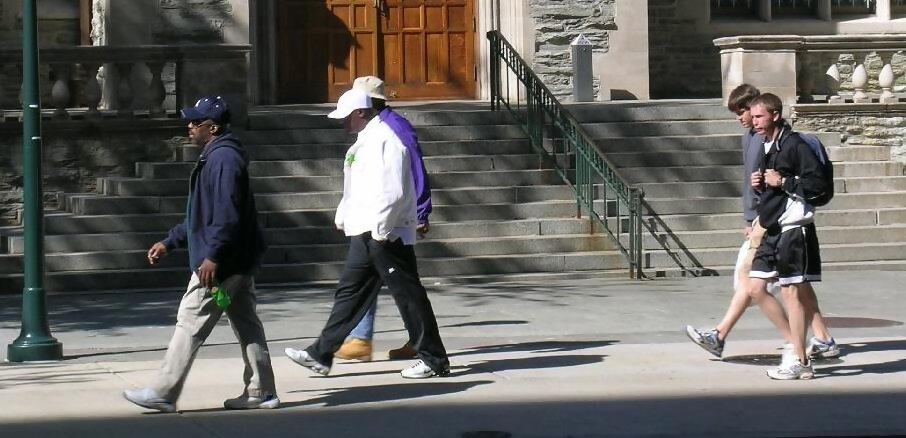person: (289, 88, 476, 393), (125, 94, 287, 417), (741, 92, 830, 374)
